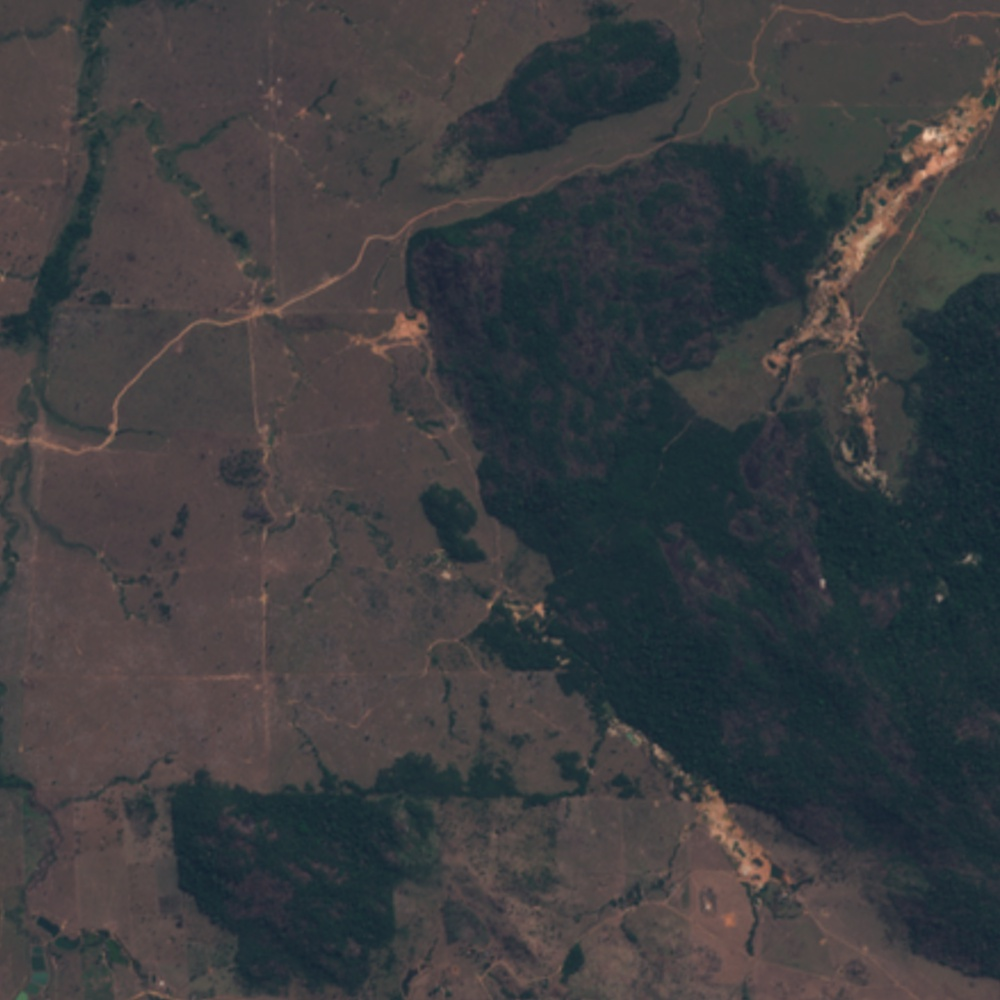legal: (766, 59, 1000, 503), (589, 694, 818, 933), (5, 911, 160, 1000), (495, 596, 618, 684), (823, 436, 911, 557), (921, 548, 989, 614), (605, 867, 679, 919), (372, 302, 435, 354), (397, 943, 436, 1000), (420, 549, 477, 571), (475, 961, 506, 987), (267, 419, 279, 459)
